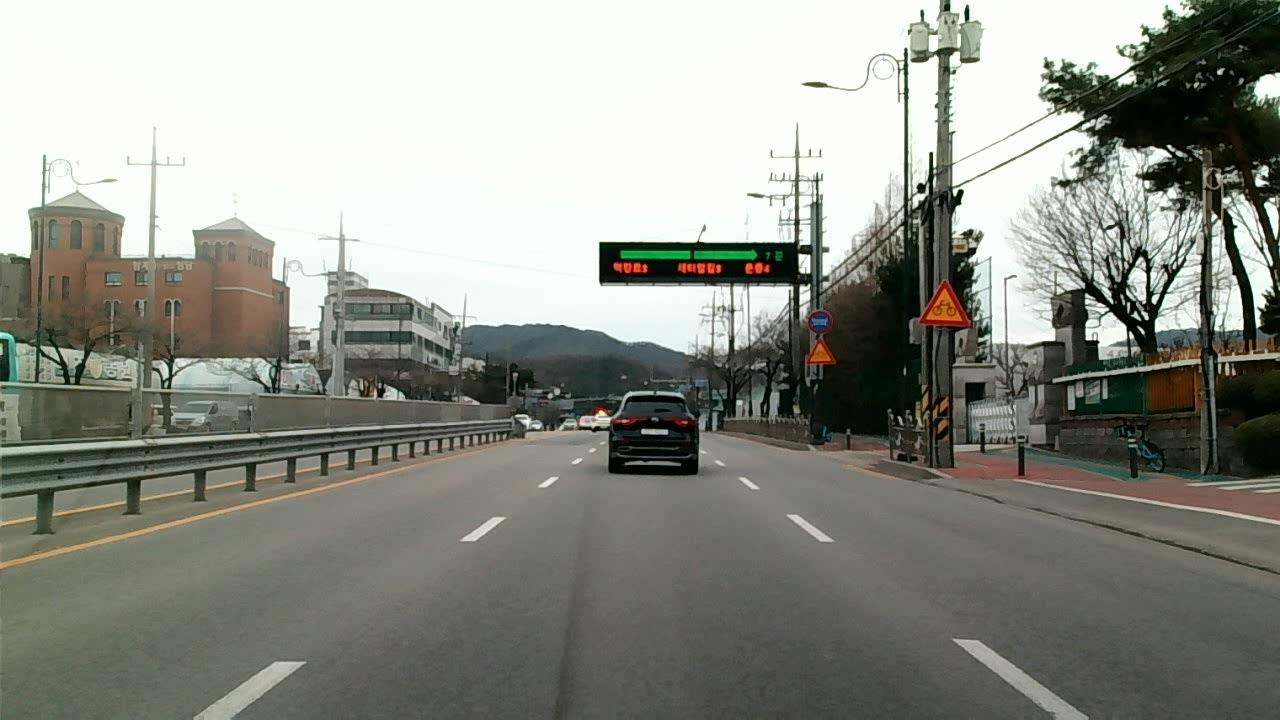vcrack: (1135, 527, 1267, 569), (1024, 503, 1118, 530), (936, 479, 1012, 504)
